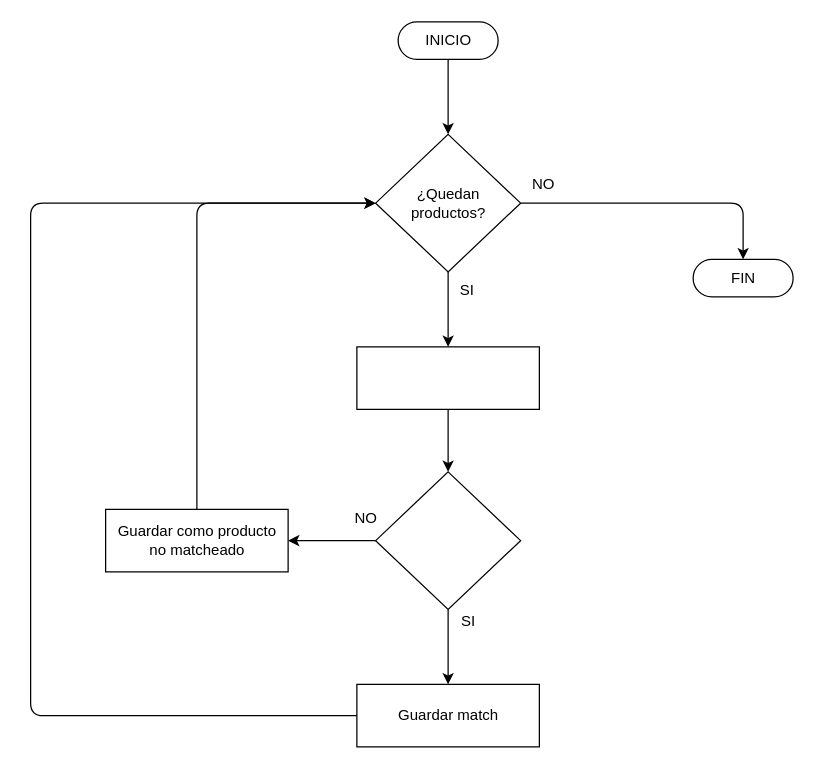
Some shapes in this 815 by 769 pixel diagram are drawn without their labels. Each missing label, with the centre of its shape:
Busca productos con mismas características: [447,377]
¿Clasificados como match?: [447,540]
